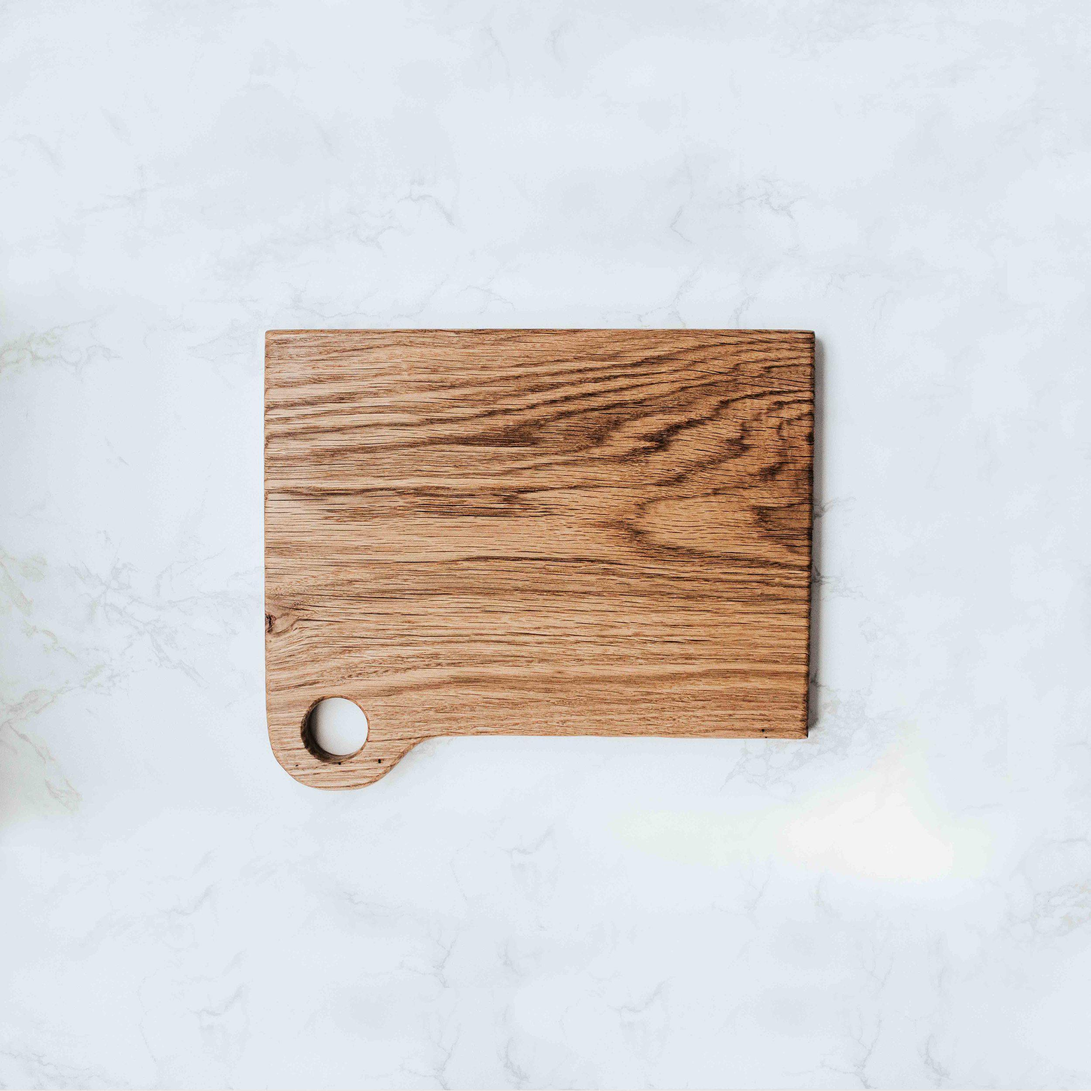gloved_hand: (238, 312, 867, 788)
